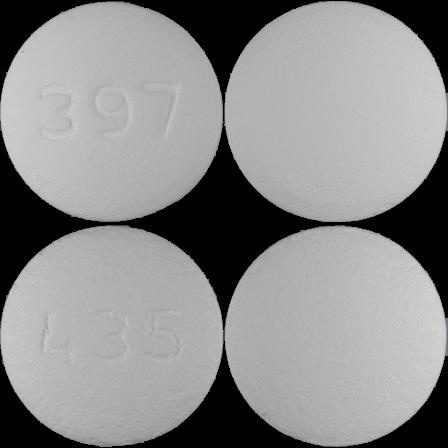57664-397: (0, 0, 224, 224)
